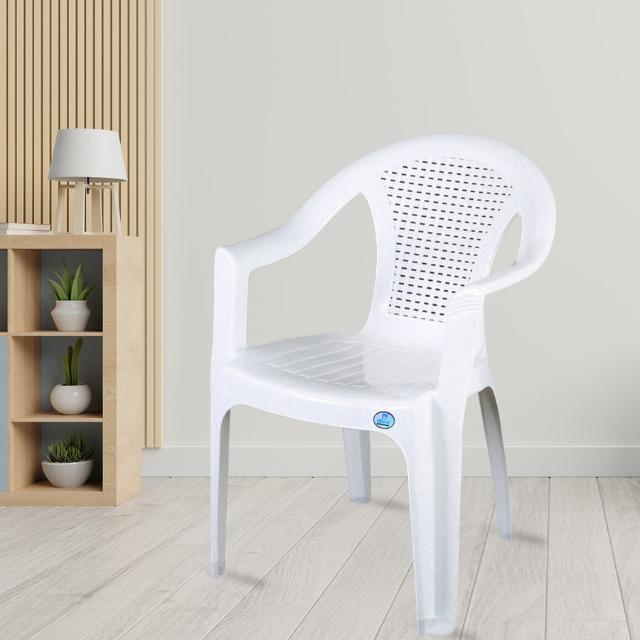obstacle: (194, 105, 584, 640)
